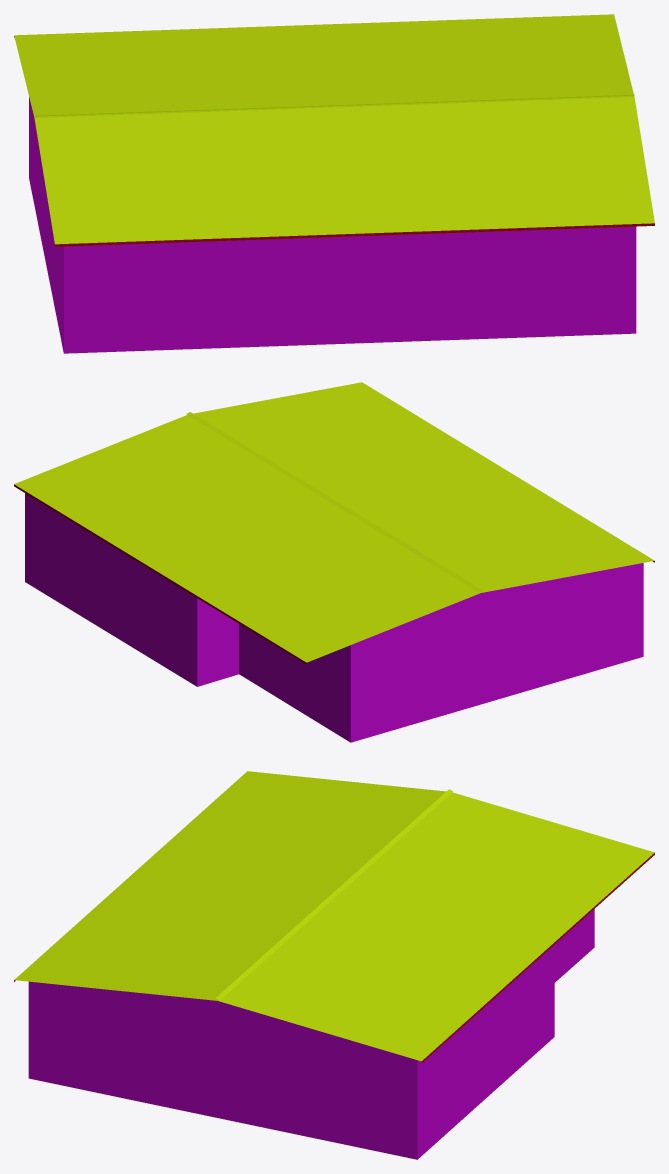
The model's file is rmc_26.glb.
3 views of the same model, one above another, from view 1: azimuth 30°, elevation 25°; view 2: azimuth 150°, elevation 25°; view 3: azimuth 270°, elevation 25° (orthographic). The views are drawn at different scales.
Visible parts, largest first — view 1: rmc_26; view 2: rmc_26; view 3: rmc_26.
Boxes of the visible parts, x1,y1,x2,y2 form: rmc_26: (14, 14, 654, 353); rmc_26: (14, 382, 654, 742); rmc_26: (14, 771, 654, 1159).
Size of the model in its own units: 32.6 by 6.56 by 30.42.
